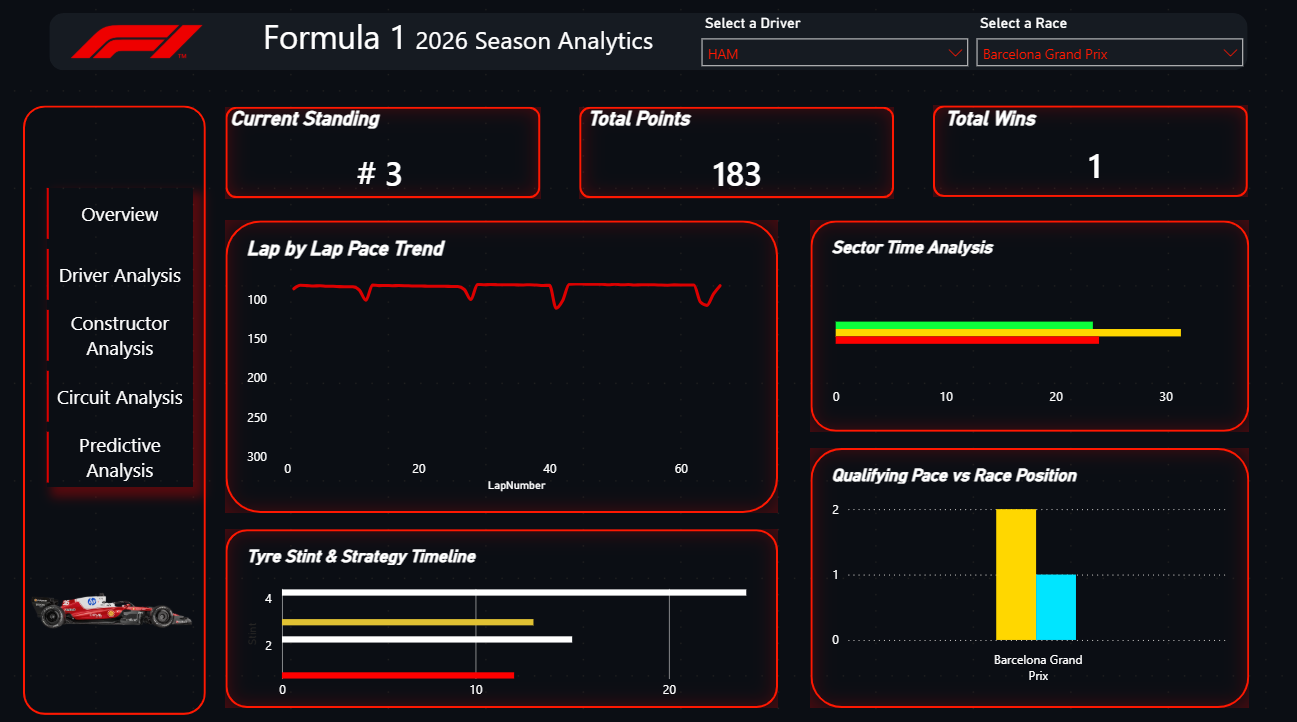

What the dashboard file says about the page in this screenshot:
{"tool":"powerbi","page":{"name":"Driver Analysis","canvas":[1280,720],"ordinal":1},"visuals":[{"type":"shape","box":[50.3,19.6,1180,56.4],"z":0},{"type":"image","box":[34.4,9.8,203.7,76.1],"z":1000},{"type":"shape","box":[24.5,110.4,180,600],"z":2000},{"type":"shape","box":[224,112,310,90],"z":3000},{"type":"shape","box":[920.3,110.4,310,90],"z":4000},{"type":"shape","box":[572.1,112,310,90],"z":5000},{"type":"shape","box":[800,448,432,256],"z":6000},{"type":"cardVisual","title":"Current Standing","fields":{"Data":["Sum(driver_standings_current.position)"]},"box":[224,112,304,96],"z":7000},{"type":"cardVisual","title":"Total Points","fields":{"Data":["Sum(driver_standings_current.points)"]},"box":[576,112,304,96],"z":8000},{"type":"cardVisual","title":"Total Wins","fields":{"Data":["Sum(driver_standings_current.wins)"]},"box":[928,112,304,80],"z":9000},{"type":"pageNavigator","box":[48,192,144,294.2],"z":10000},{"type":"textbox","box":[256,16,432,64],"z":11000},{"type":"slicer","title":"Select a Driver","fields":{"Values":["driver_standings_current.driverCode"]},"box":[688.3,16.3,272,64],"z":12000},{"type":"image","box":[32,528,160,160],"z":13000},{"type":"slicer","title":"Select a Driver","fields":{"Values":["lap_by_lap_data.EventName"]},"box":[958.2,16.3,272,64],"z":14000},{"type":"shape","box":[224,224,544,288],"z":15000},{"type":"lineChart","title":"Lap by Lap Pace Trend","fields":{"Y":["Avg(lap_by_lap_data.LapTime_Seconds)"],"Category":["lap_by_lap_data.LapNumber"]},"box":[240,240,512,256],"z":16000},{"type":"shape","box":[224,528,544,176],"z":17000},{"type":"clusteredBarChart","title":"Tyre Stint & Strategy Timeline","fields":{"Category":["lap_by_lap_data.Stint"],"Y":["Max(lap_by_lap_data.TyreLife)"],"Series":["lap_by_lap_data.Compound"]},"box":[240,544,528,160],"z":18000},{"type":"clusteredColumnChart","title":"Qualifying Pace vs Race Position","fields":{"Category":["lap_by_lap_data.EventName"],"Y":["Avg(qualifying_results.Position)","Sum(driver_points_per_round.Position)"]},"box":[816,464,400,224],"z":19000},{"type":"shape","box":[800,224,432,208],"z":20000},{"type":"clusteredBarChart","title":"Sector Time Analysis","fields":{"Y":["Min(lap_by_lap_data.Sector1Time_Seconds)","Min(lap_by_lap_data.Sector2Time_Seconds)","Min(lap_by_lap_data.Sector3Time_Seconds)"]},"box":[816,240,400,176],"z":21000}]}

Visuals, with their boxes in screenshot pixels (x1, y1, x2, y2), scaled from the page's 1280x720 canvas onto the 1297x722 screenshot:
shape: x1=51, y1=20, x2=1247, y2=76
image: x1=35, y1=10, x2=241, y2=86
shape: x1=25, y1=111, x2=207, y2=712
shape: x1=227, y1=112, x2=541, y2=203
shape: x1=933, y1=111, x2=1247, y2=201
shape: x1=580, y1=112, x2=894, y2=203
shape: x1=811, y1=449, x2=1248, y2=706
"Current Standing" cardVisual: x1=227, y1=112, x2=535, y2=209
"Total Points" cardVisual: x1=584, y1=112, x2=892, y2=209
"Total Wins" cardVisual: x1=940, y1=112, x2=1248, y2=193
pageNavigator: x1=49, y1=193, x2=195, y2=488
textbox: x1=259, y1=16, x2=697, y2=80
"Select a Driver" slicer: x1=697, y1=16, x2=973, y2=81
image: x1=32, y1=529, x2=195, y2=690
"Select a Driver" slicer: x1=971, y1=16, x2=1247, y2=81
shape: x1=227, y1=225, x2=778, y2=513
"Lap by Lap Pace Trend" lineChart: x1=243, y1=241, x2=762, y2=497
shape: x1=227, y1=529, x2=778, y2=706
"Tyre Stint & Strategy Timeline" clusteredBarChart: x1=243, y1=546, x2=778, y2=706
"Qualifying Pace vs Race Position" clusteredColumnChart: x1=827, y1=465, x2=1232, y2=690
shape: x1=811, y1=225, x2=1248, y2=433
"Sector Time Analysis" clusteredBarChart: x1=827, y1=241, x2=1232, y2=417
